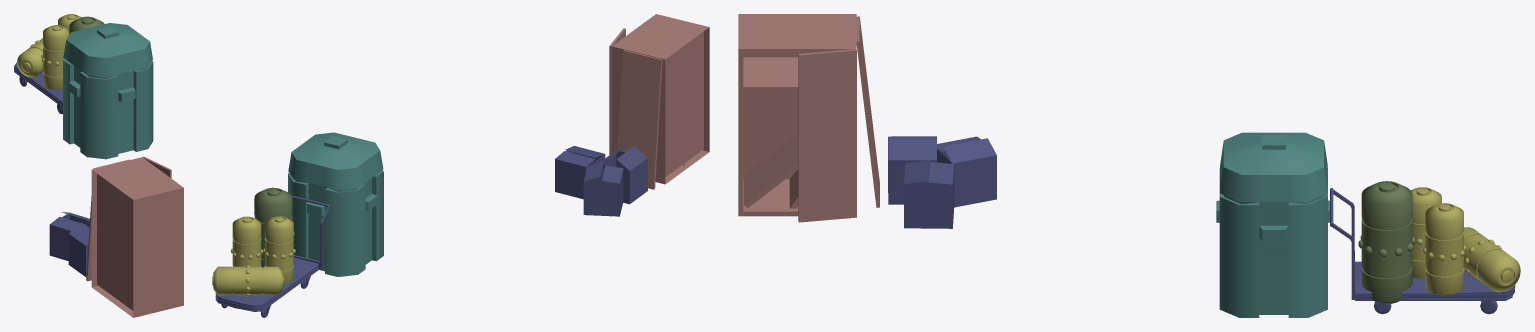
File: Barrier.fbx
3 views of the same model, side by side, from view 1: azimuth 30°, elevation 25°; view 2: azimuth 150°, elevation 25°; view 3: azimuth 270°, elevation 25° (orthographic). The views are drawn at different scales.
Visible parts, largest first — view 1: Wardrobe, Big_box, Small_capsule, box_2, box_1, Handcart, Big_Сapsule; view 2: Wardrobe, Big_box, Small_capsule, Handcart, box_2, box_3, box_1, Big_Сapsule; view 3: Wardrobe, Big_box, Small_capsule, Big_Сapsule, box_3, box_2, Handcart, box_1.
Boxes of the visible parts, x1,y1,x2,y2 form: Wardrobe: [86, 156, 183, 317]; Big_box: [63, 23, 153, 159]; Small_capsule: [17, 14, 81, 89]; box_2: [49, 212, 89, 261]; box_1: [68, 221, 89, 276]; Handcart: [14, 62, 62, 114]; Big_Сapsule: [69, 16, 104, 34]; Wardrobe: [609, 14, 709, 189]; Big_box: [288, 132, 383, 276]; Small_capsule: [212, 216, 295, 296]; Handcart: [215, 195, 331, 317]; box_2: [583, 161, 623, 216]; box_3: [555, 146, 605, 199]; box_1: [600, 145, 647, 204]; Big_Сapsule: [254, 187, 294, 267]; Wardrobe: [738, 14, 879, 222]; Big_box: [1216, 132, 1329, 317]; Small_capsule: [1411, 187, 1520, 295]; Big_Сapsule: [1358, 181, 1415, 303]; box_3: [904, 160, 954, 228]; box_2: [937, 136, 996, 207]; Handcart: [1330, 188, 1515, 314]; box_1: [888, 136, 936, 204].
Size of the model in its own units: 673 by 380 by 1604.
